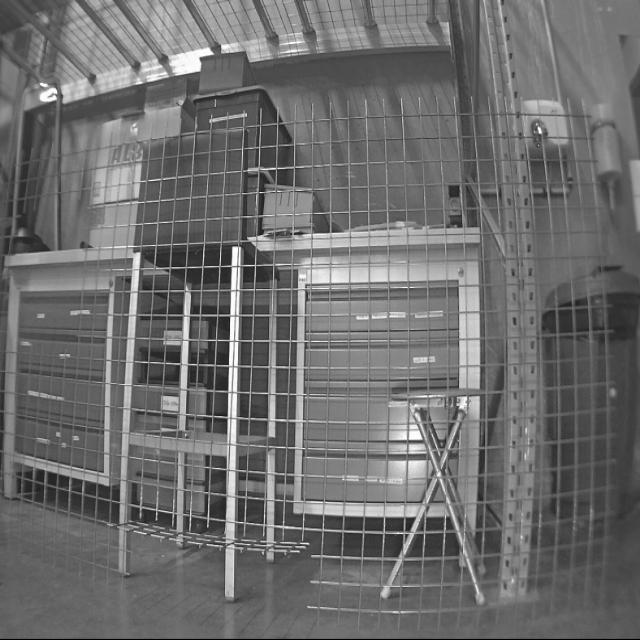fence line: (116, 520, 323, 611), (11, 158, 110, 325)
